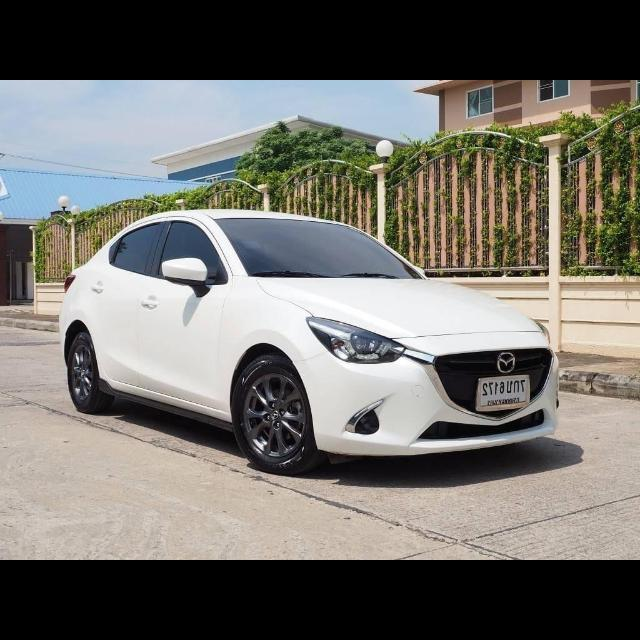cars: (54, 198, 566, 482)
